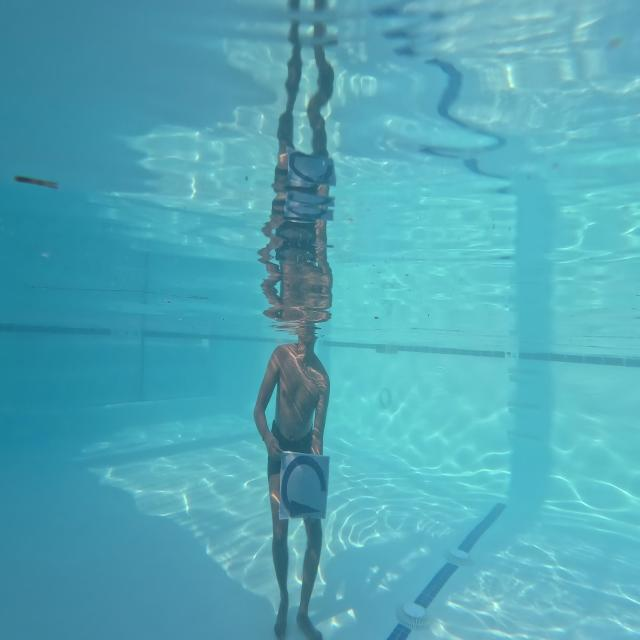blue_side: (275, 438, 340, 534)
